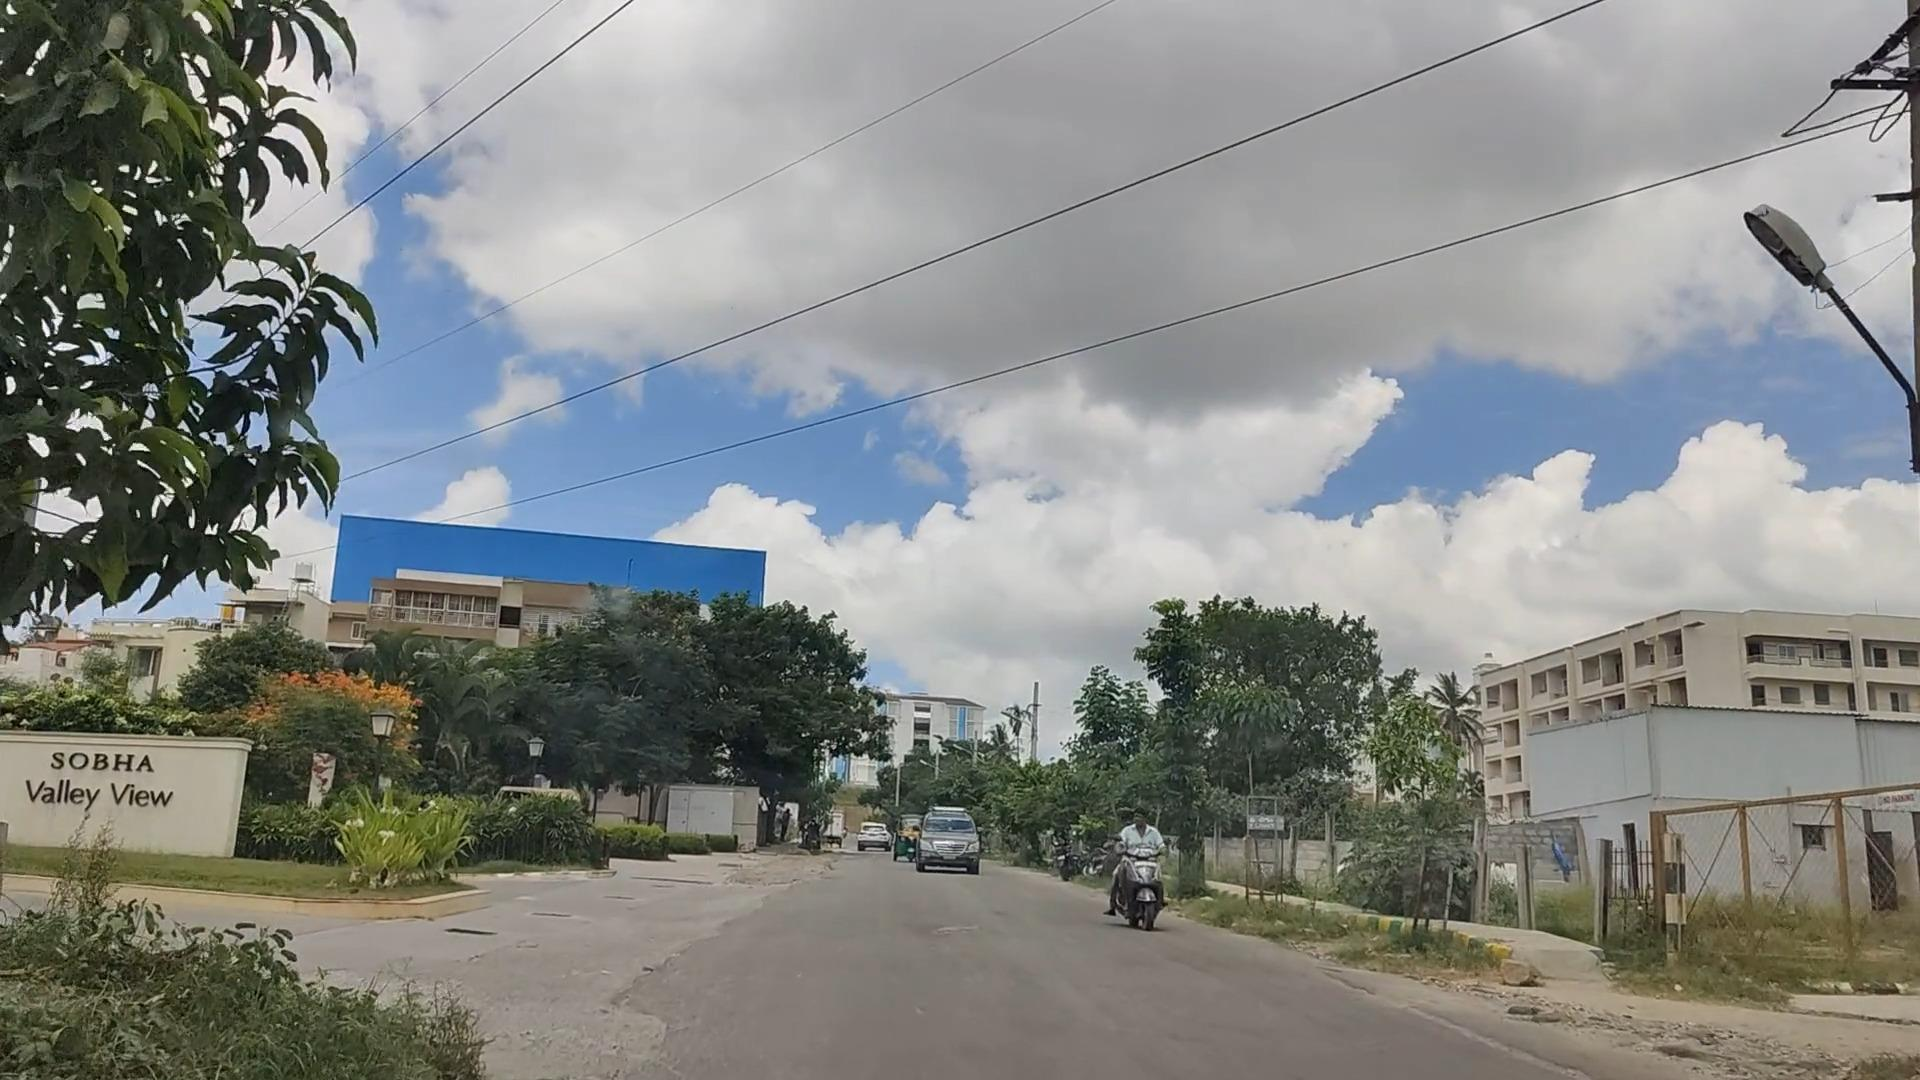RoadDamages: (607, 887, 799, 998), (514, 1010, 703, 1080), (1416, 1002, 1580, 1080)
